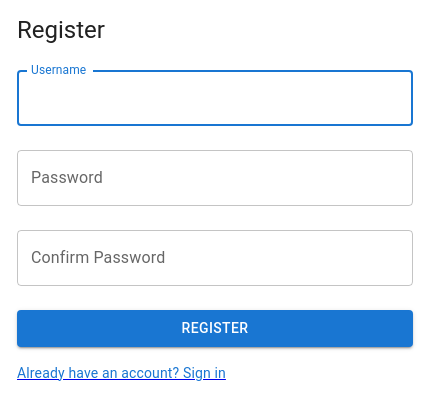
Test: RegisterForm › not register user with duplicate username
The image size is (431, 420).
Expected: the heading "Register" is shown, [17, 16, 105, 44]
In the field labelled "Username": x=215, y=98 [17, 70, 413, 126], type "test"
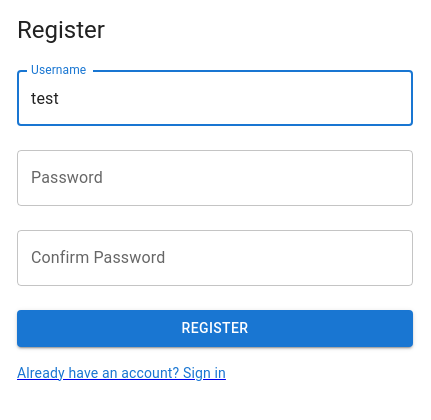
In the password field labelled "Password": x=215, y=178 [17, 150, 413, 206], type "password"
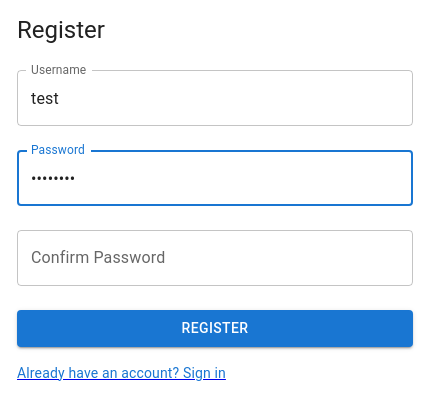
In the password field labelled "Confirm Password": x=215, y=258 [17, 230, 413, 286], type "password"
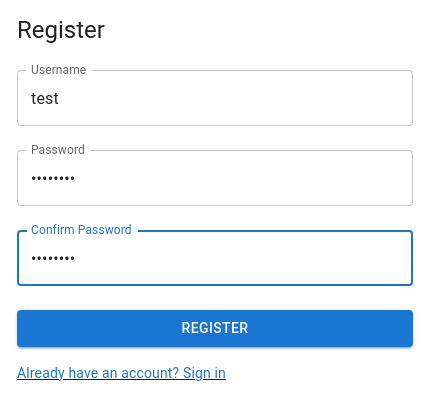
Click the button "Register": x=215, y=328 [17, 310, 413, 346]
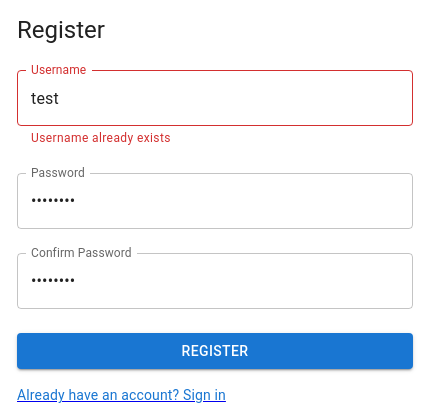
Now the text "Username already exists" is shown, box [31, 131, 171, 145]
